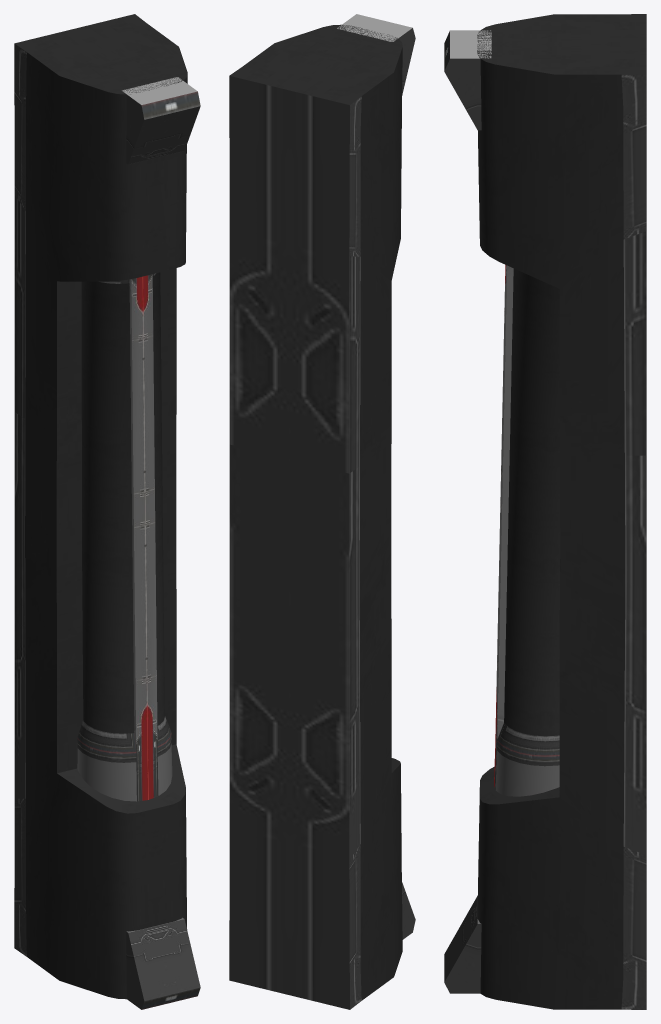
Rendered from rib.glb.
The picture shows the model from 3 angles, left to right: view 1: azimuth 30°, elevation 25°; view 2: azimuth 150°, elevation 25°; view 3: azimuth 270°, elevation 25°; orthographic projection. The views are drawn at different scales.
Parts seen in each view (by area): view 1: Column_Large_Straight; view 2: Column_Large_Straight; view 3: Column_Large_Straight.
Boxes of the visible parts, x1,y1,x2,y2 form: Column_Large_Straight: [14, 14, 200, 1009]; Column_Large_Straight: [229, 14, 415, 1009]; Column_Large_Straight: [444, 14, 646, 1009].
Size of the model in its own units: 1.4 by 10 by 1.96.
Materials: 4 (4 with a texture image).
